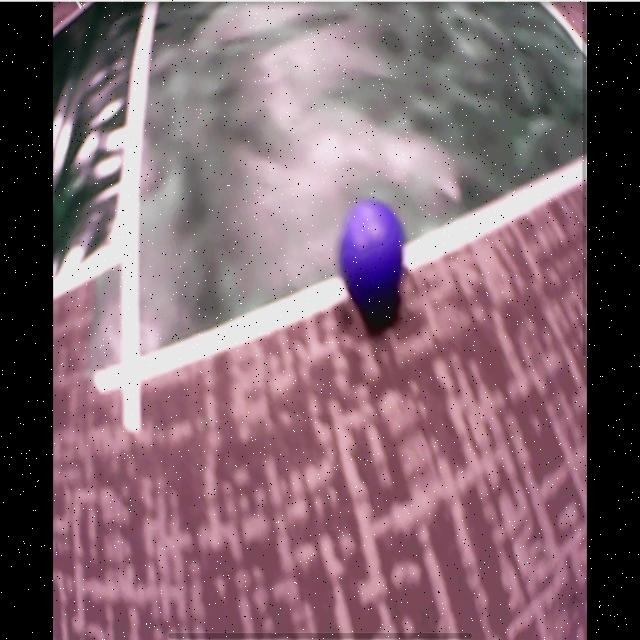ball: (342, 205, 407, 313)
